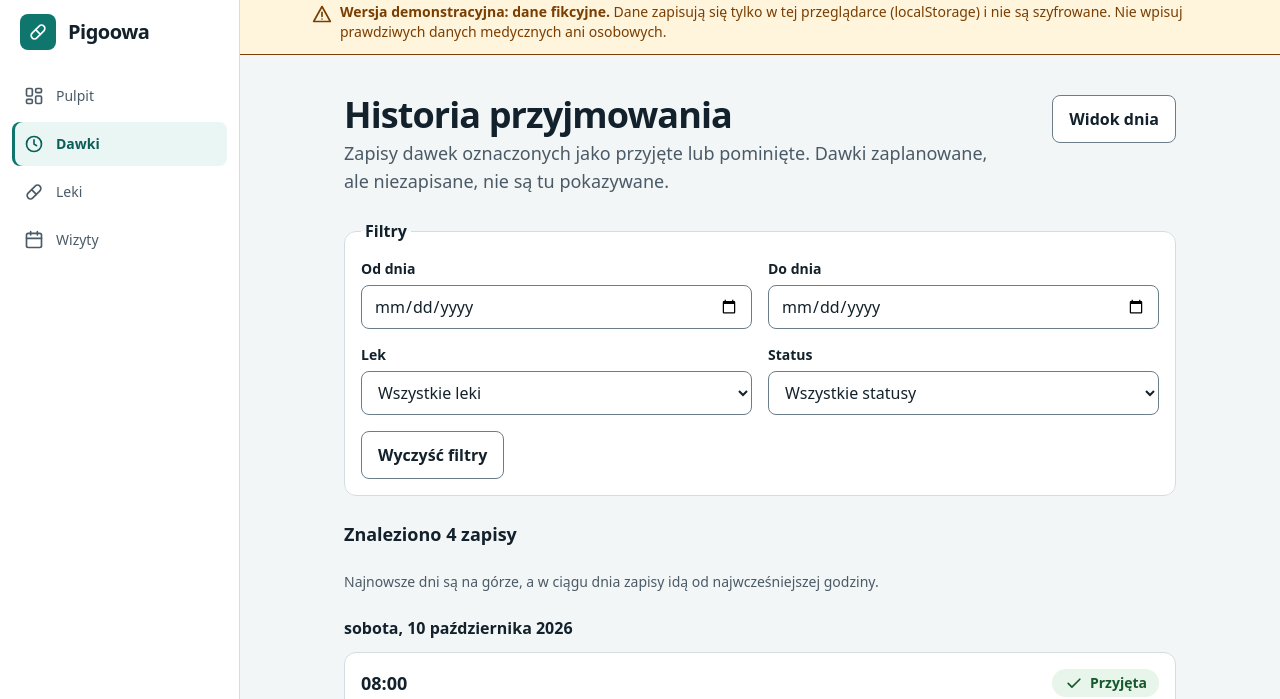
Scenario: history: filters › says when nothing matches, keeps the filters visible, and clears them on request
The image size is (1280, 699).
expect the heading "Znaleziono 4 zapisy" is shown: met, box [344,522,517,546]
Select "Lek A" in the dropdown labelled "Lek": (556, 393) [361,371,752,415]
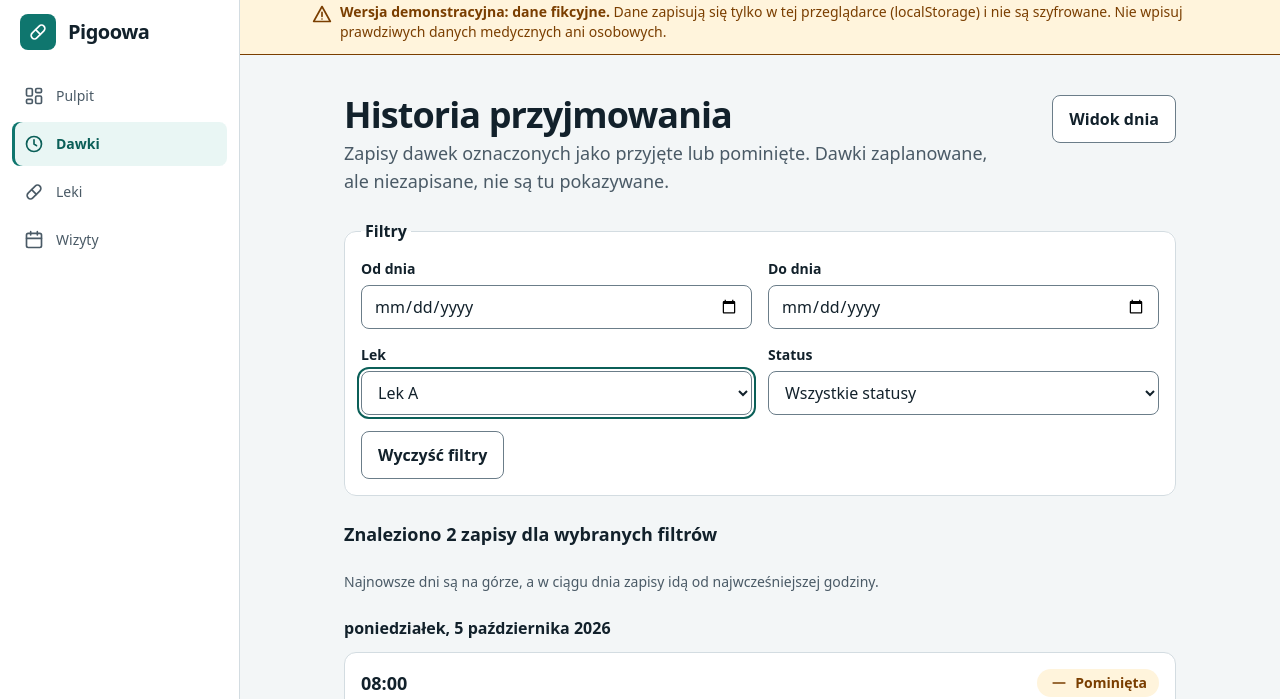
In the date field labelled "Od dnia": (556, 307) [361,285,752,329], type "2026-10-08"
(page scrolled)
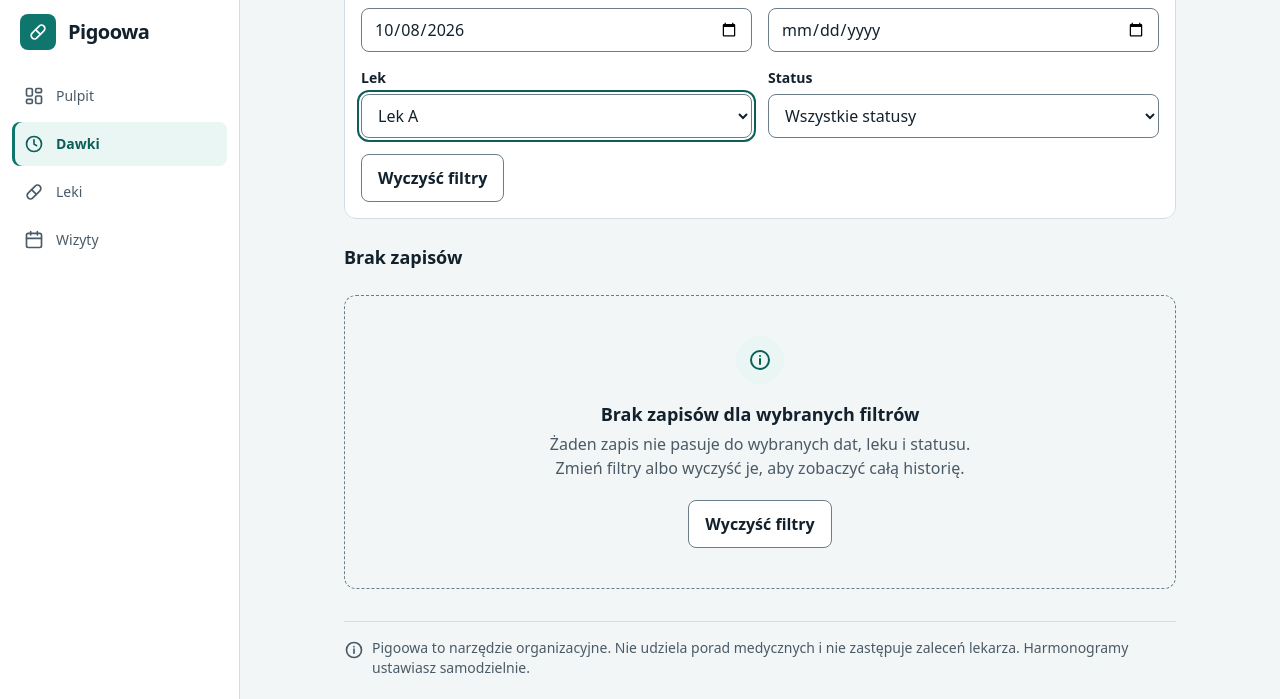
expect the heading "Brak zapisów dla wybranych filtrów" is shown: met, box [601,400,919,428]
expect the heading "Brak zapisów" is shown: met, box [344,245,462,269]
Click the button "Wyczyść filtry" below "Brak zapisów dla wybranych filtrów": (760, 524) [688,500,832,548]
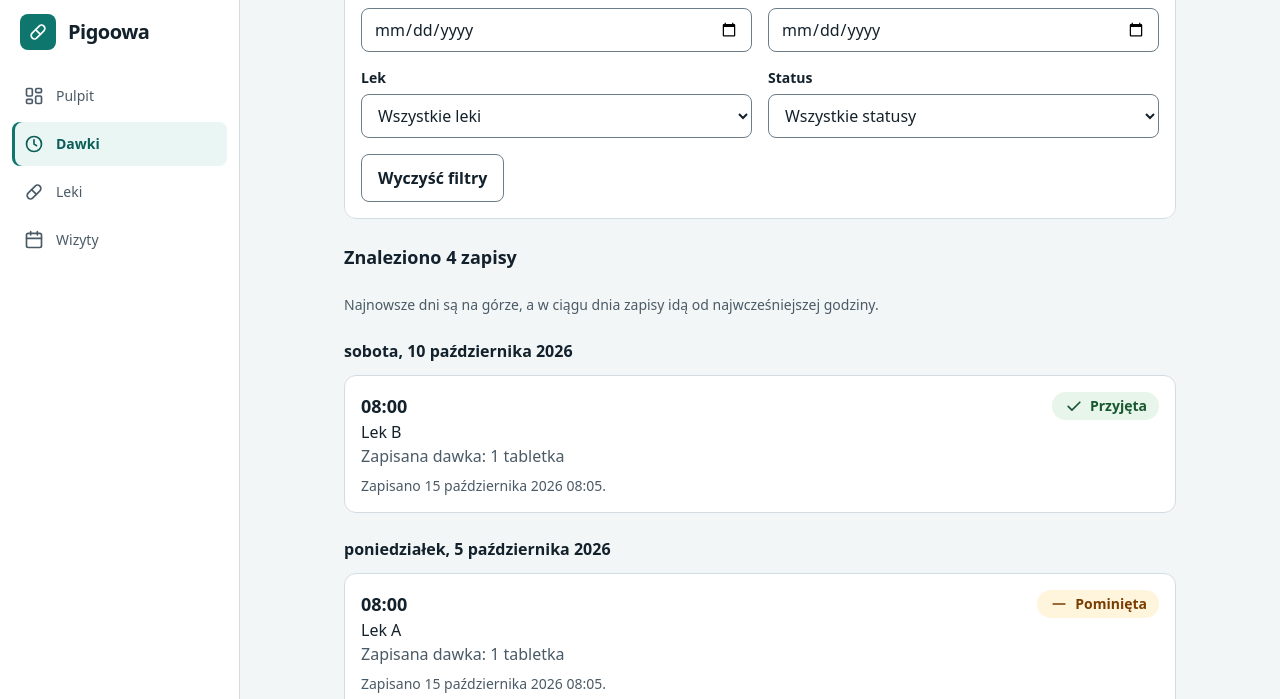
expect the heading "Znaleziono 4 zapisy" is shown: met, box [344,245,517,269]
expect the date field labelled "Od dnia" is empty: met, box [361,8,752,52]
